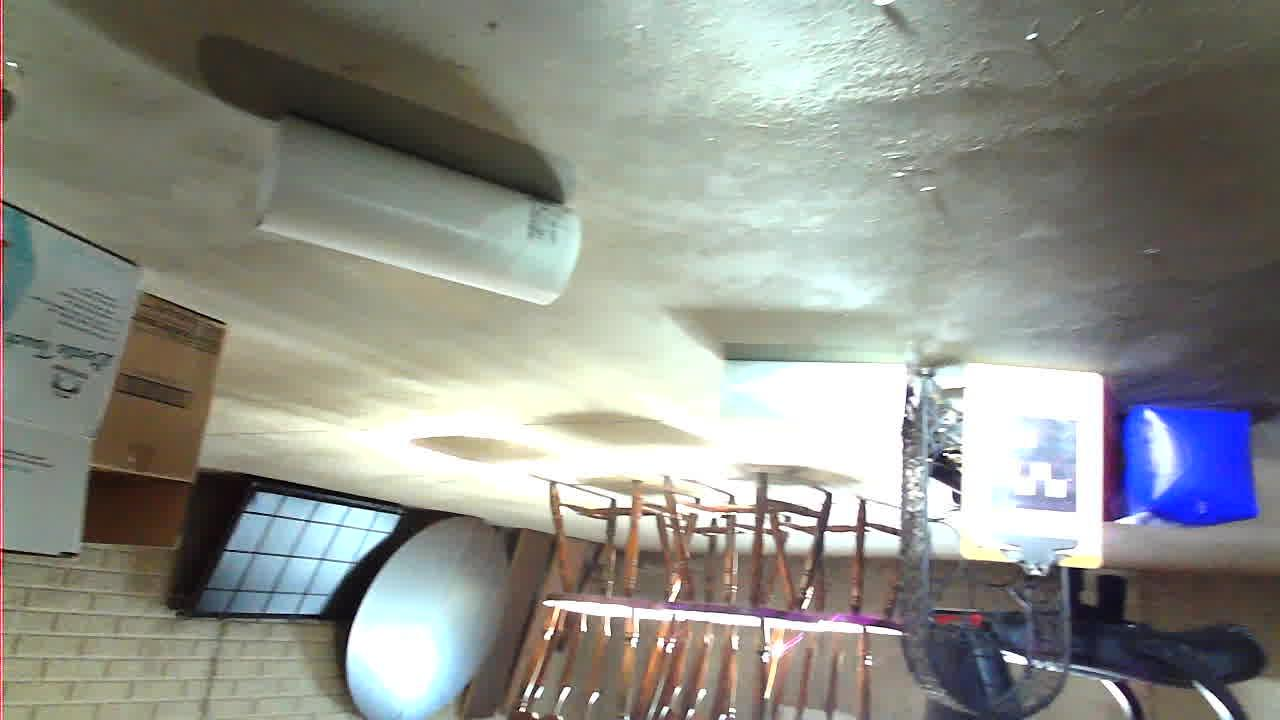coral: (699, 414, 1028, 605), (373, 299, 560, 361)
